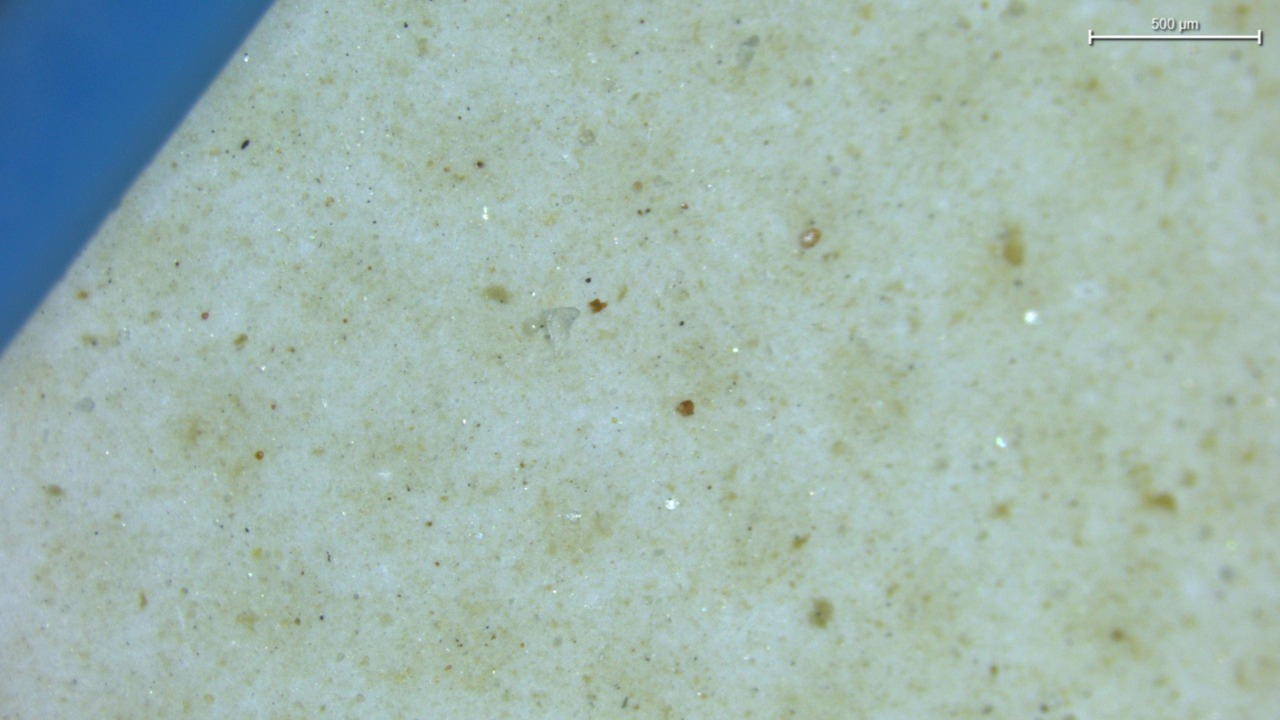microplastic_fragment: (543, 307, 581, 351)
